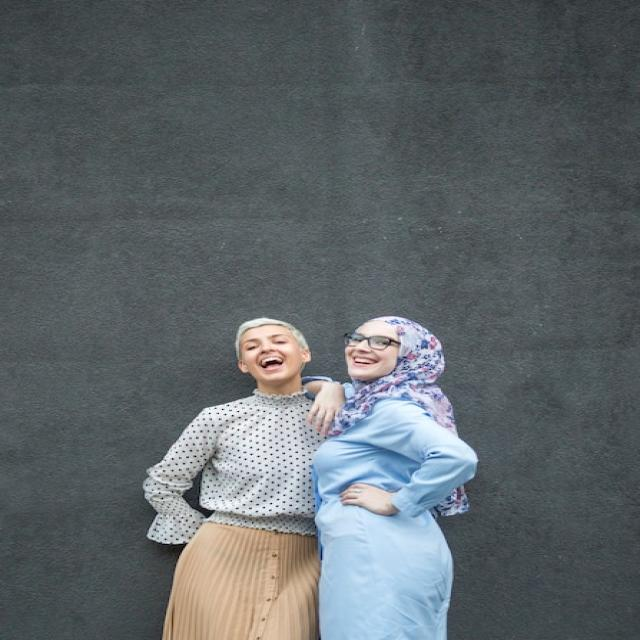Person: (302, 315, 475, 640), (144, 318, 316, 640)
